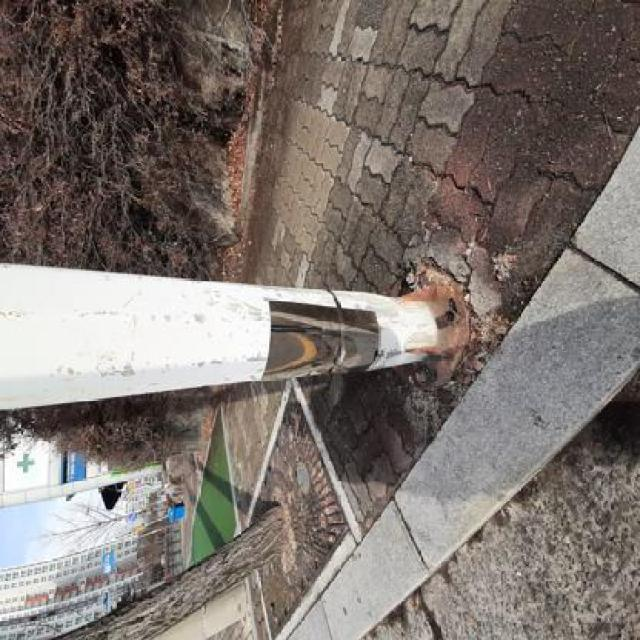pole: (0, 247, 480, 418)
